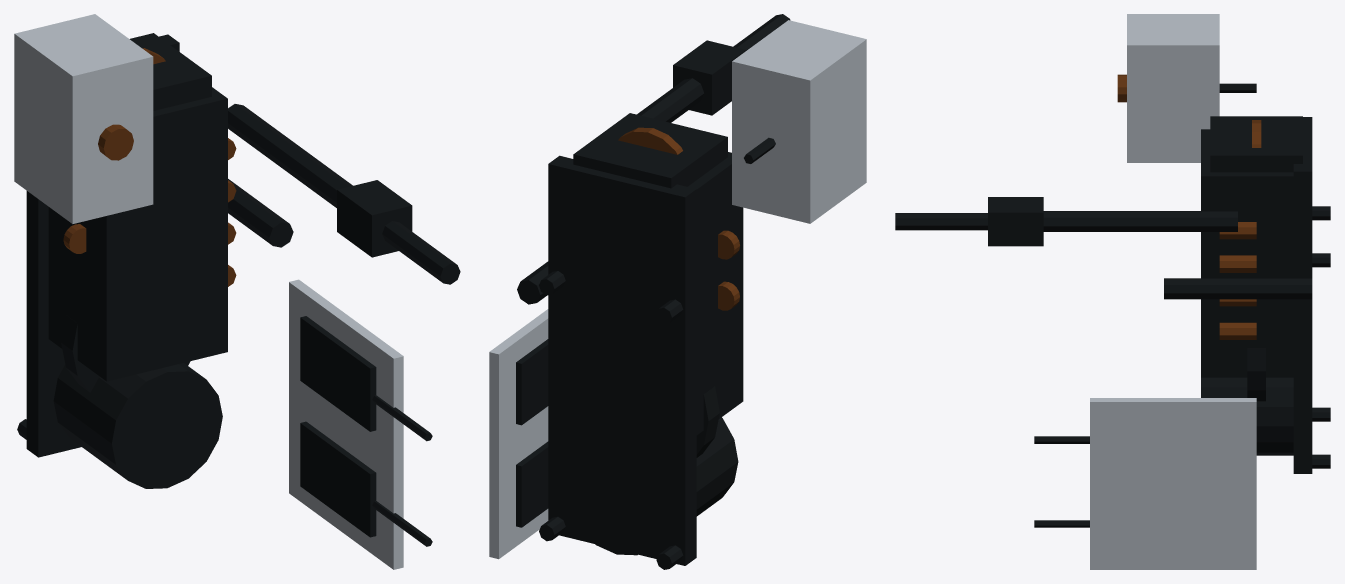
File: SM_BB_GeneratorAnnex_Machinery.obj
The picture shows the model from 3 angles, left to right: view 1: azimuth 30°, elevation 25°; view 2: azimuth 150°, elevation 25°; view 3: azimuth 270°, elevation 25°; orthographic projection. The views are drawn at different scales.
Visible parts, largest first — view 1: SM_BB_GeneratorAnnex_Machinery; view 2: SM_BB_GeneratorAnnex_Machinery; view 3: SM_BB_GeneratorAnnex_Machinery.
Part boxes in pixels (box(x1,y1,x2,y2)): SM_BB_GeneratorAnnex_Machinery: box(14, 14, 460, 569); SM_BB_GeneratorAnnex_Machinery: box(489, 14, 866, 569); SM_BB_GeneratorAnnex_Machinery: box(895, 14, 1330, 569).
Bounding box in the file's own units: 305 × 520 × 470.
